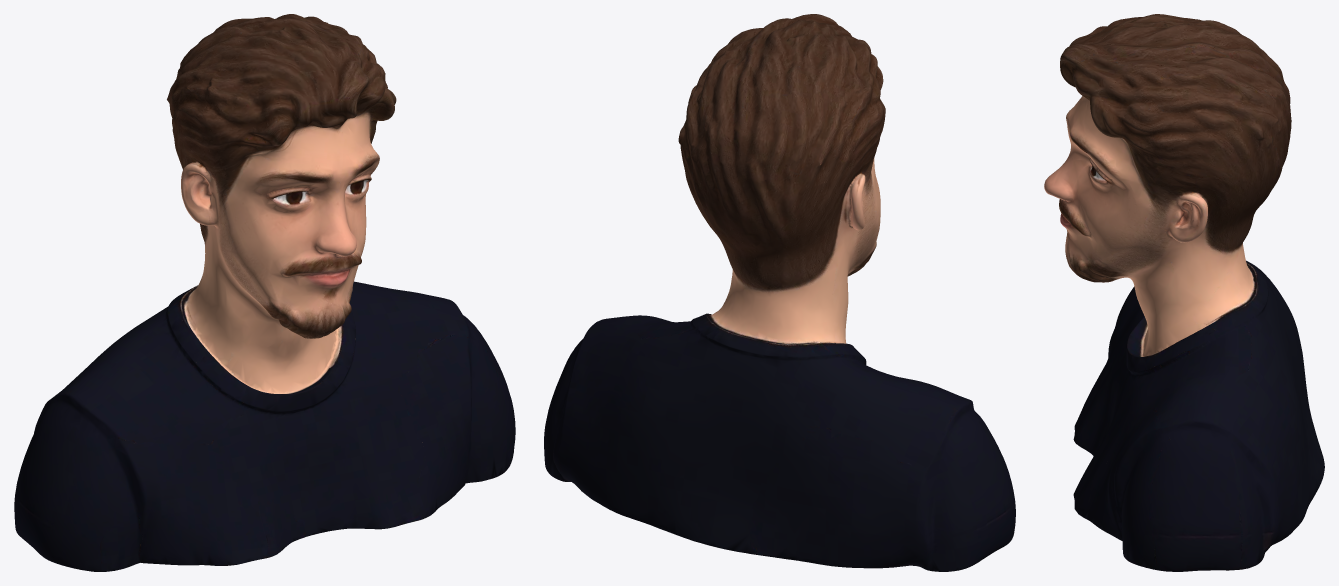
File: avatar.glb
The picture shows the model from 3 angles, left to right: view 1: azimuth 30°, elevation 25°; view 2: azimuth 150°, elevation 25°; view 3: azimuth 270°, elevation 25°; orthographic projection. The views are drawn at different scales.
Bounding box in the file's own units: 1.9 × 1.85 × 1.05.
1 material, 1 textured.
